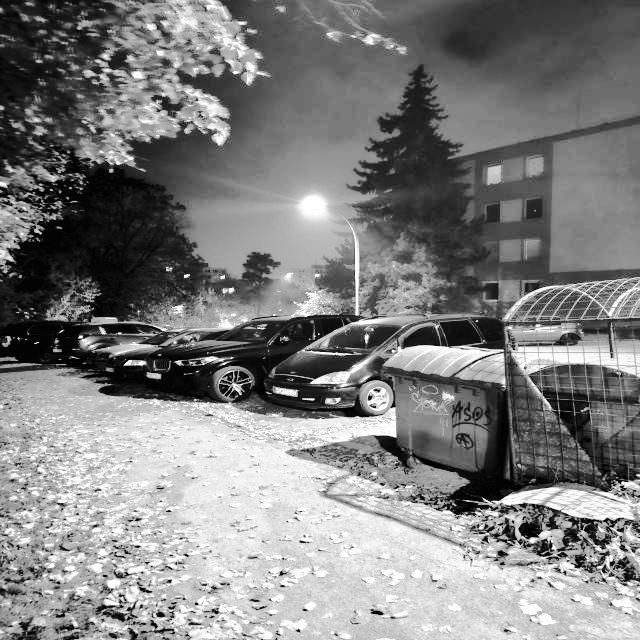Car: (263, 309, 513, 412), (147, 312, 364, 406)
Light: (306, 201, 361, 315)
